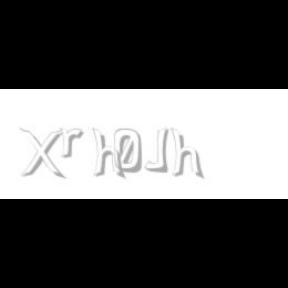0: (114, 128, 146, 174)
J: (144, 128, 168, 172)
X: (19, 128, 63, 180)
h: (92, 128, 128, 180), (171, 128, 206, 180)
r: (60, 128, 86, 158)
